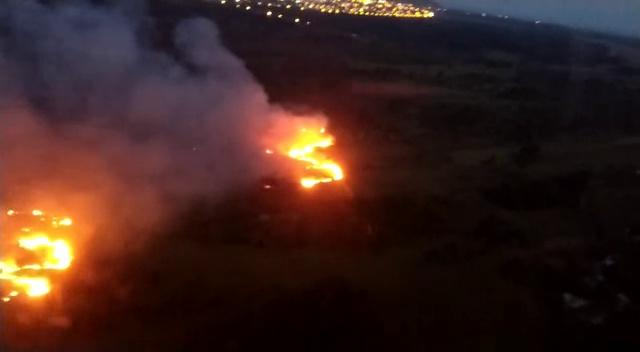fire: (12, 236, 75, 293), (293, 122, 345, 188)
smoke: (43, 57, 182, 198)
